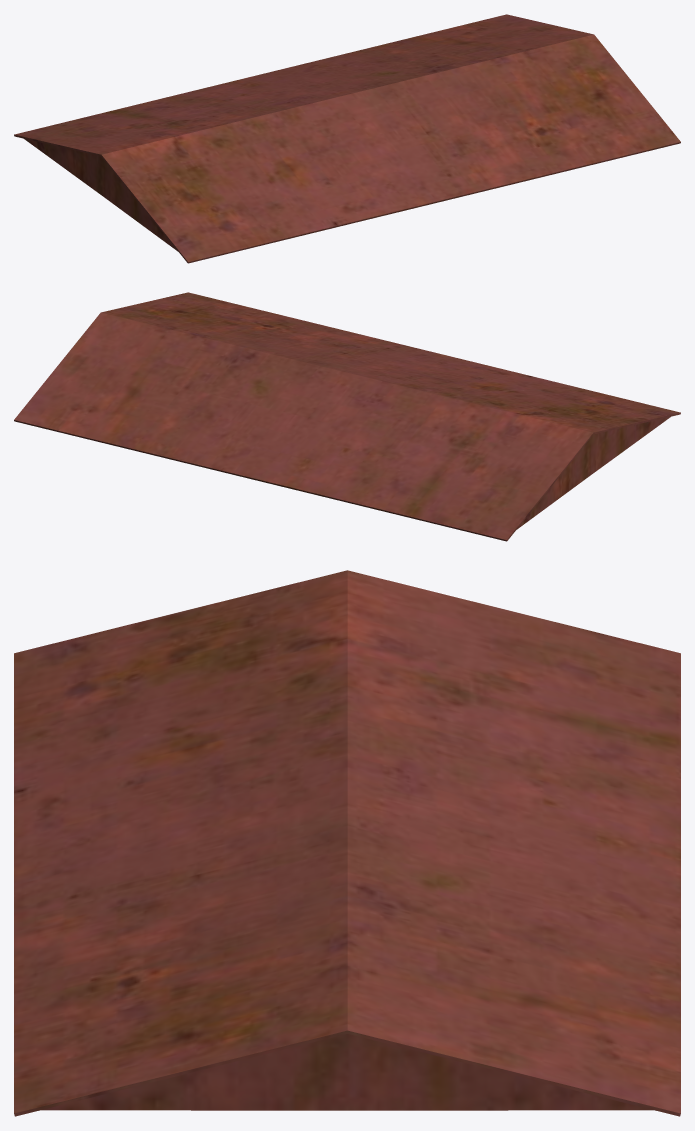
Rendered from garage_metal_4.glb.
3 views of the same model, one above another, from view 1: azimuth 30°, elevation 25°; view 2: azimuth 150°, elevation 25°; view 3: azimuth 270°, elevation 25° (orthographic). The views are drawn at different scales.
Visible parts, largest first — view 1: garage_metal_4; view 2: garage_metal_4; view 3: garage_metal_4.
Boxes of the visible parts, bbox=[...] form: garage_metal_4: bbox=[14, 14, 680, 263]; garage_metal_4: bbox=[14, 292, 680, 541]; garage_metal_4: bbox=[14, 570, 680, 1116].
Bounding box in the file's own units: 5.58 × 0.4886 × 3.41.
Materials: 1 (1 with a texture image).
